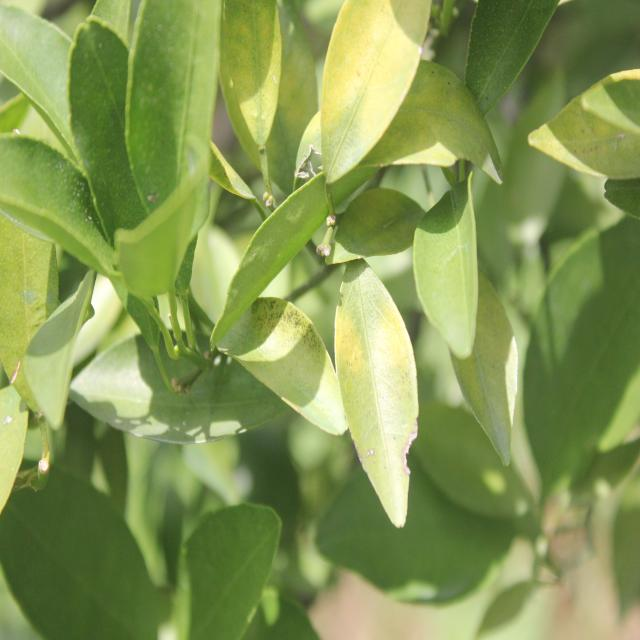blackspot: (341, 297, 414, 482), (329, 5, 398, 131), (227, 0, 279, 125), (454, 341, 509, 424), (252, 300, 323, 362), (411, 64, 462, 128), (546, 125, 604, 159), (478, 89, 491, 107)
